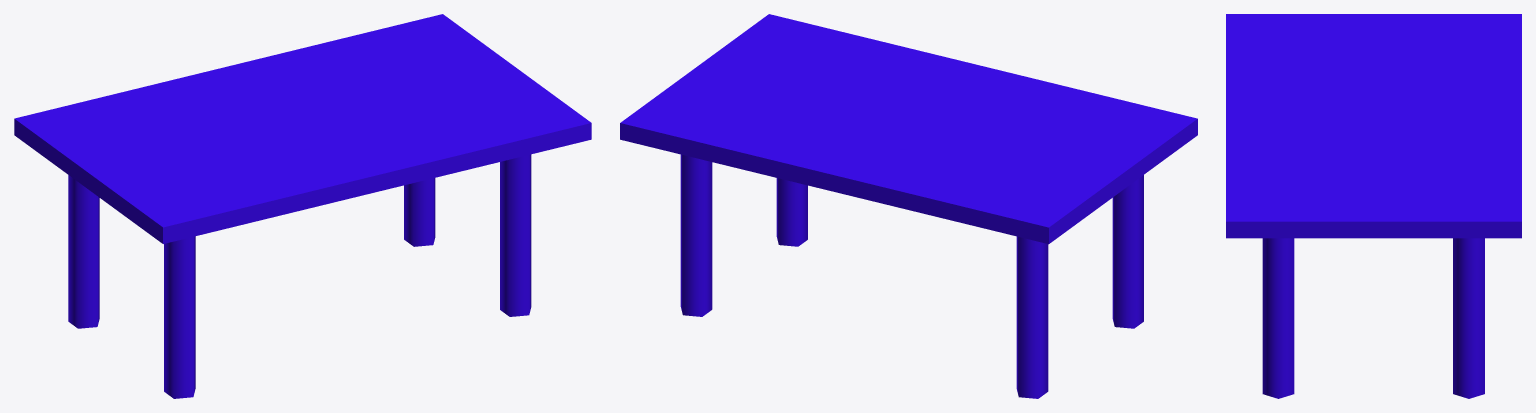
The model's file is office_pack_table_4_meshCollider.fbx.
3 views of the same model, side by side, from view 1: azimuth 30°, elevation 25°; view 2: azimuth 150°, elevation 25°; view 3: azimuth 270°, elevation 25° (orthographic).
Parts seen in each view (by area): view 1: office_pack_table_4_meshCollider; view 2: office_pack_table_4_meshCollider; view 3: office_pack_table_4_meshCollider.
Boxes of the visible parts, x1,y1,x2,y2 form: office_pack_table_4_meshCollider: (14, 14, 591, 398); office_pack_table_4_meshCollider: (620, 14, 1197, 398); office_pack_table_4_meshCollider: (1226, 14, 1521, 398).
Bounding box in the file's own units: 100 × 43.61 × 60.32.
